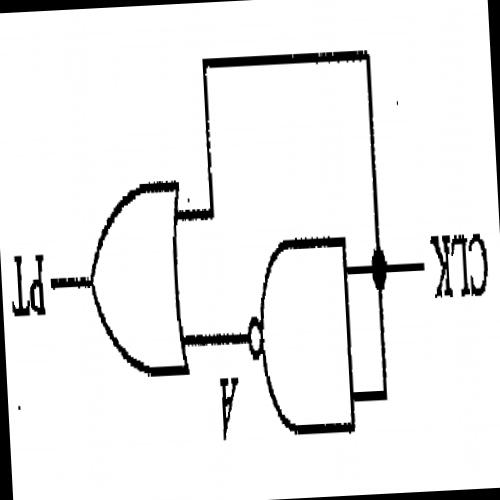nand: (237, 220, 363, 450)
or: (78, 167, 194, 396)
